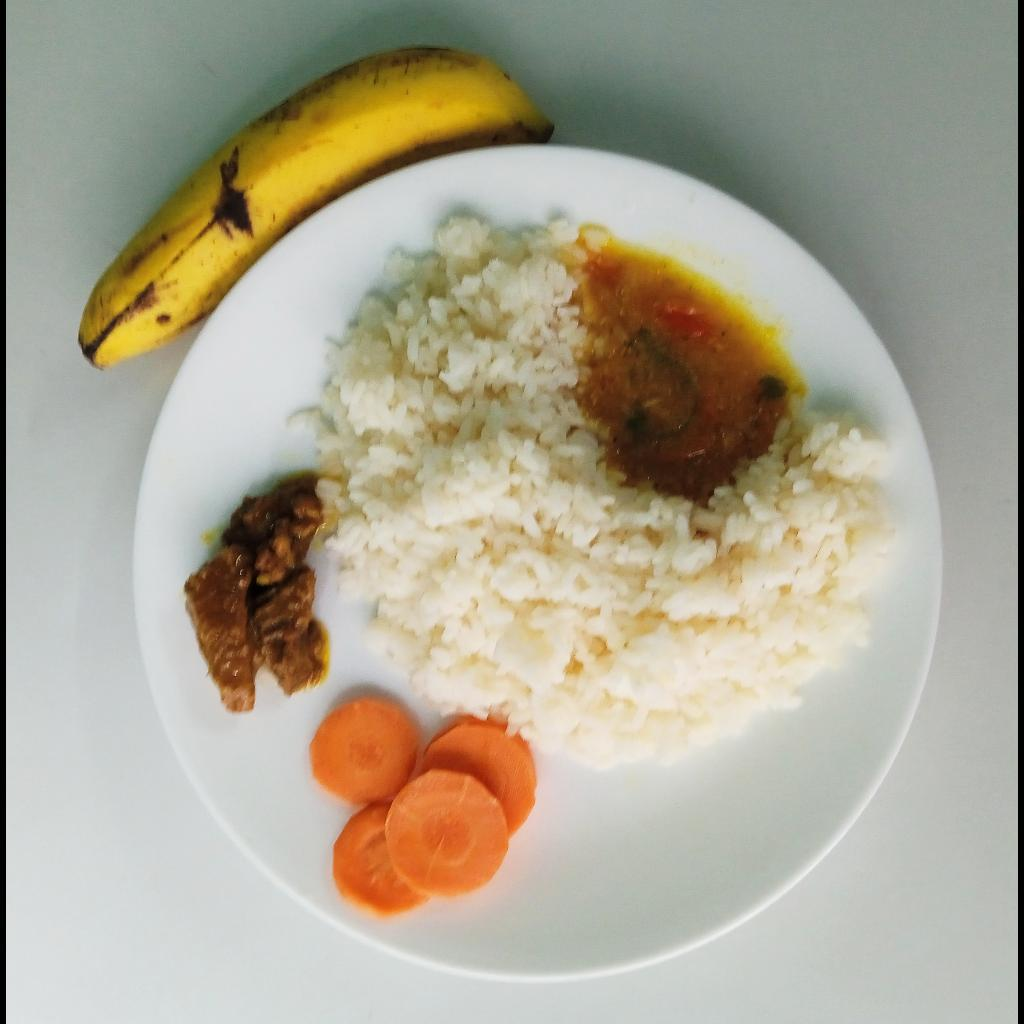banana: (74, 43, 556, 372)
beef: (181, 481, 333, 712)
carrot: (312, 695, 538, 915)
daal: (583, 228, 814, 512)
rice: (284, 213, 898, 766)
